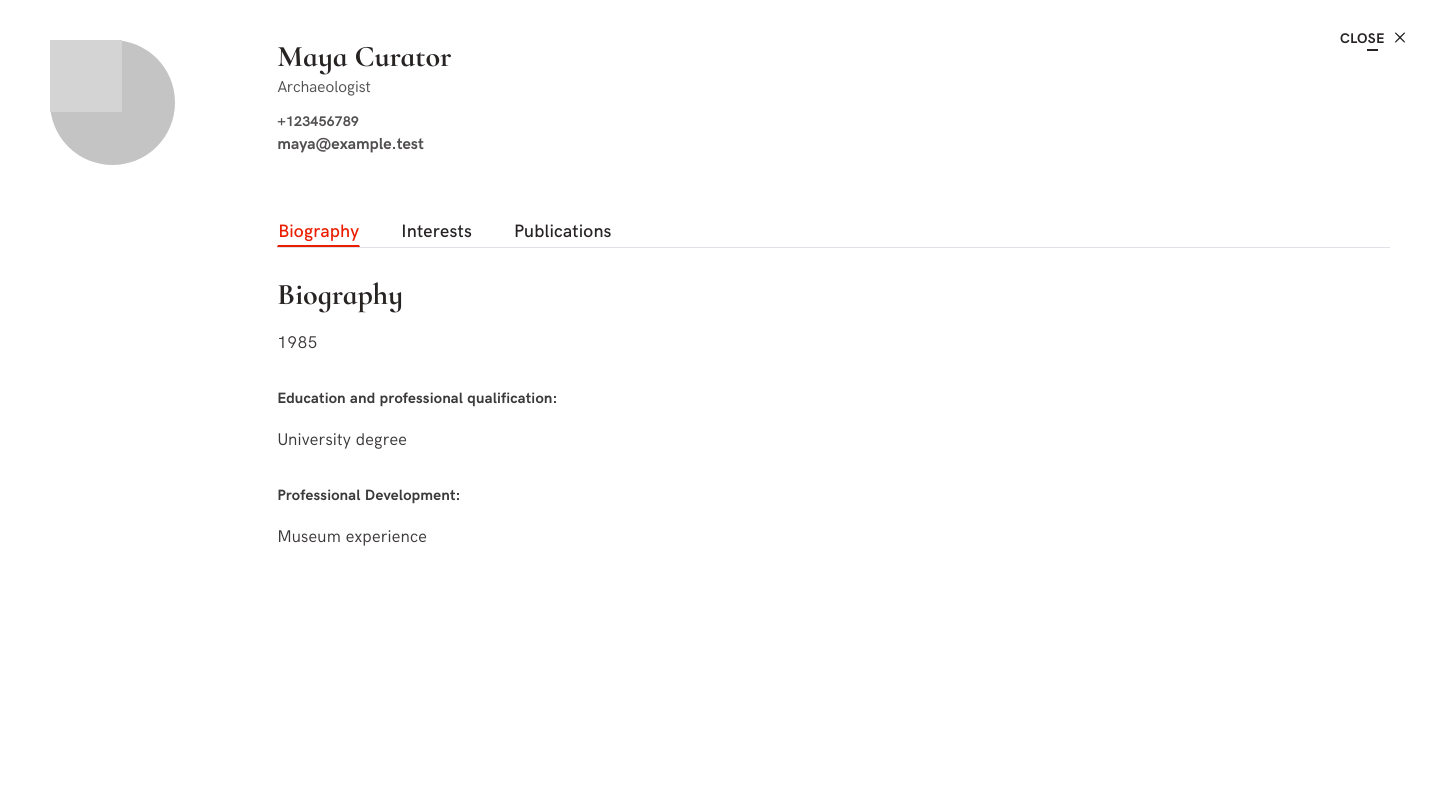
it: ModalTeamContent › shows all supplied interests and publications when switching tabs
Step 1. Click the tab "Interests" → [437, 230], box [400,214,473,246]
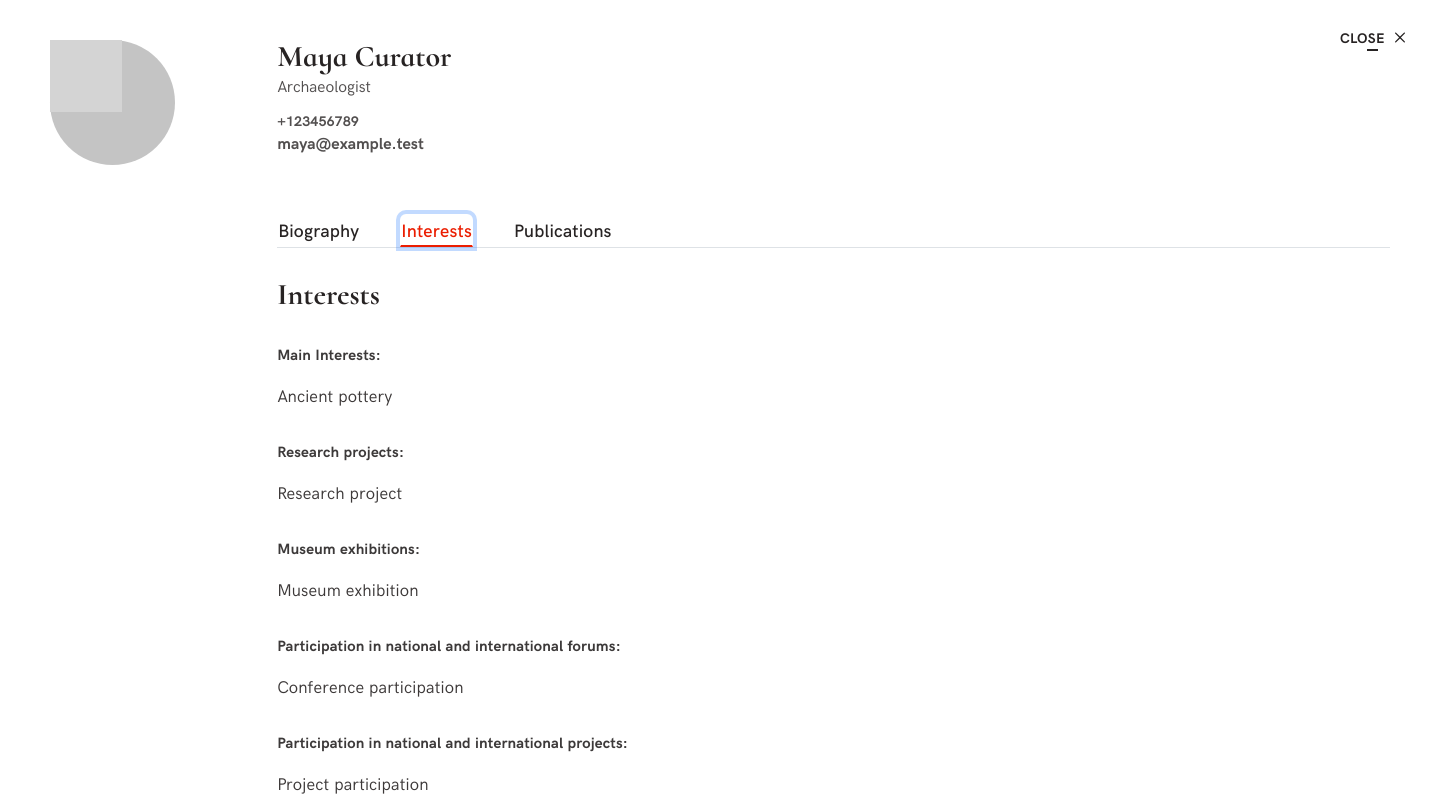
Now the text "Ancient pottery" is shown, box [277,383,392,407]
Now the text "Research project" is shown, box [277,480,402,504]
Now the text "Museum exhibition" is shown, box [277,577,419,601]
Step 2. Click the tab "Publications" → [563, 230], box [513,214,613,246]
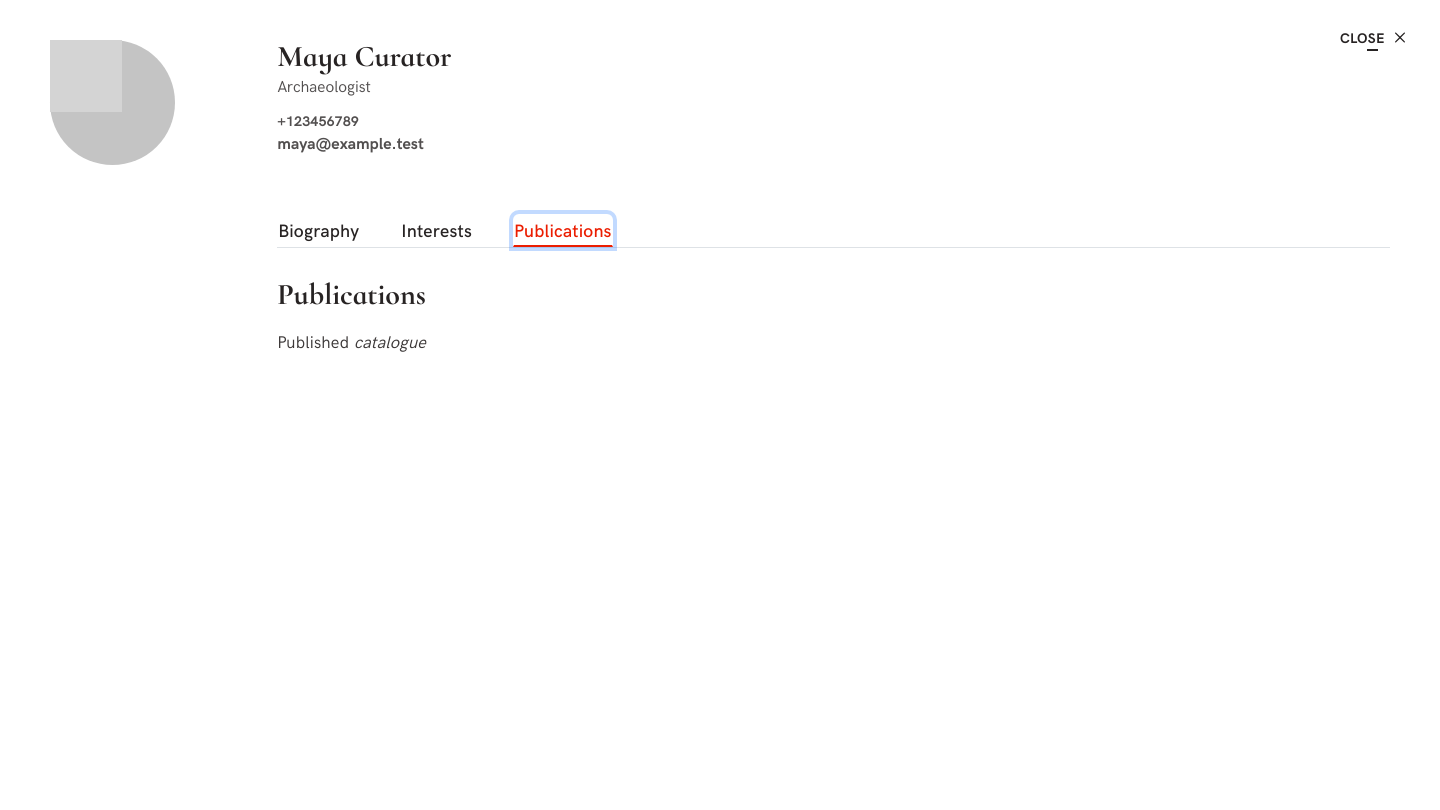
Now the text "catalogue" is shown, box [354,329,426,353]
